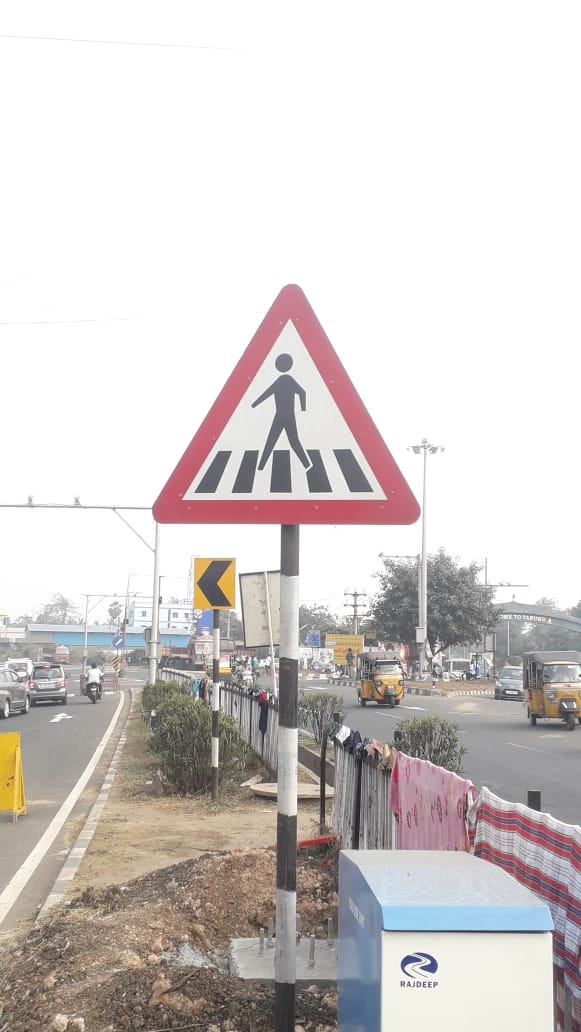pedestrian crossing: (153, 274, 438, 554)
